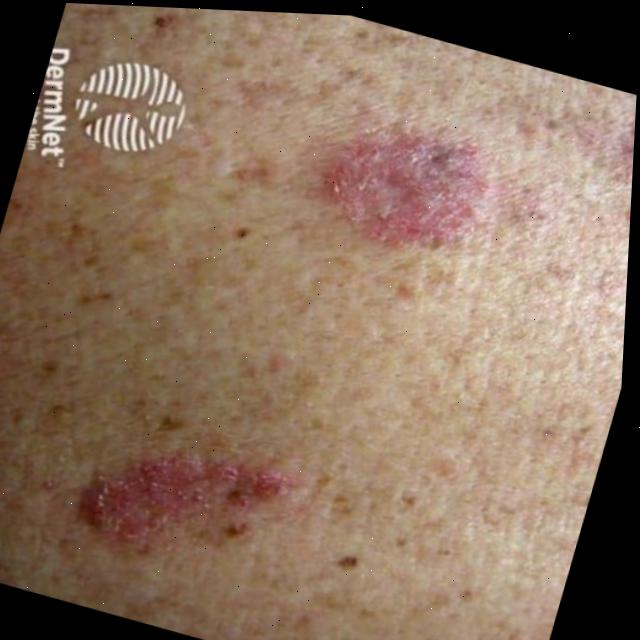Eczema: (40, 31, 602, 640)
